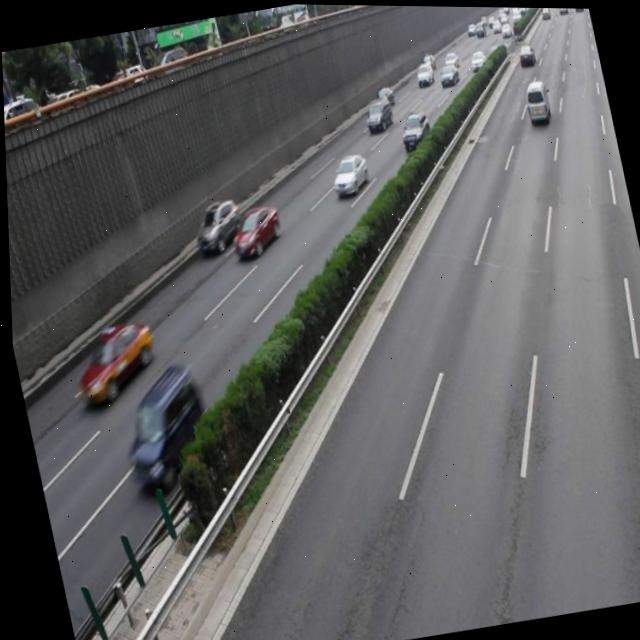car: (64, 313, 160, 403), (223, 199, 283, 260), (187, 194, 246, 256), (325, 149, 370, 198), (395, 109, 433, 151)
truck: (107, 358, 215, 495)
